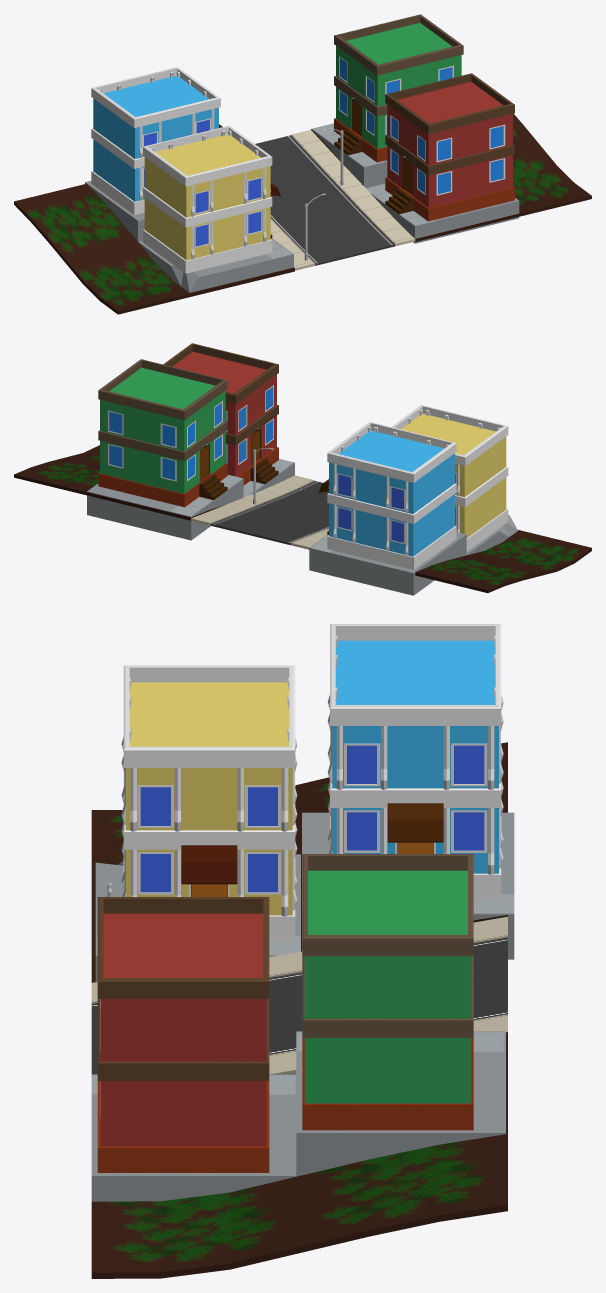
The model's file is CityPt13.fbx.
The picture shows the model from 3 angles, top to bottom: view 1: azimuth 30°, elevation 25°; view 2: azimuth 150°, elevation 25°; view 3: azimuth 270°, elevation 25°; orthographic projection. The views are drawn at different scales.
Parts seen in each view (by area): view 1: Ed14.006, Ed11.006, Baldio.004, Ed12.007, StreetCo.009, Ed13.007; view 2: Ed12.007, Ed13.007, Baldio.004, Ed11.006, Ed14.006, StreetCo.009; view 3: Ed12.007, Ed11.006, Ed13.007, Ed14.006, Baldio.004, StreetCo.009.
Boxes of the visible parts, box(x1,y1,x2,y2) form: Ed14.006: box(138, 125, 293, 292); Ed11.006: box(366, 73, 519, 243); Baldio.004: box(14, 113, 591, 314); Ed12.007: box(311, 14, 463, 187); StreetCo.009: box(255, 130, 415, 270); Ed13.007: box(85, 67, 222, 241); Ed12.007: box(87, 359, 243, 540); Ed13.007: box(309, 422, 466, 595); Baldio.004: box(14, 445, 591, 593); Ed11.006: box(163, 343, 294, 497); Ed14.006: box(392, 405, 517, 555); StreetCo.009: box(191, 475, 328, 549); Ed12.007: box(296, 854, 505, 1176); Ed11.006: box(91, 897, 296, 1201); Ed13.007: box(302, 624, 514, 959); Ed14.006: box(95, 665, 300, 982); Baldio.004: box(91, 742, 507, 1278); StreetCo.009: box(91, 916, 507, 1074).
Bounding box in the file's own units: 39.43 × 10.76 × 15.23.
